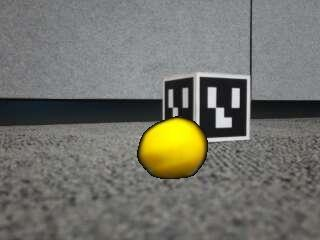lemon: (138, 117, 206, 178)
